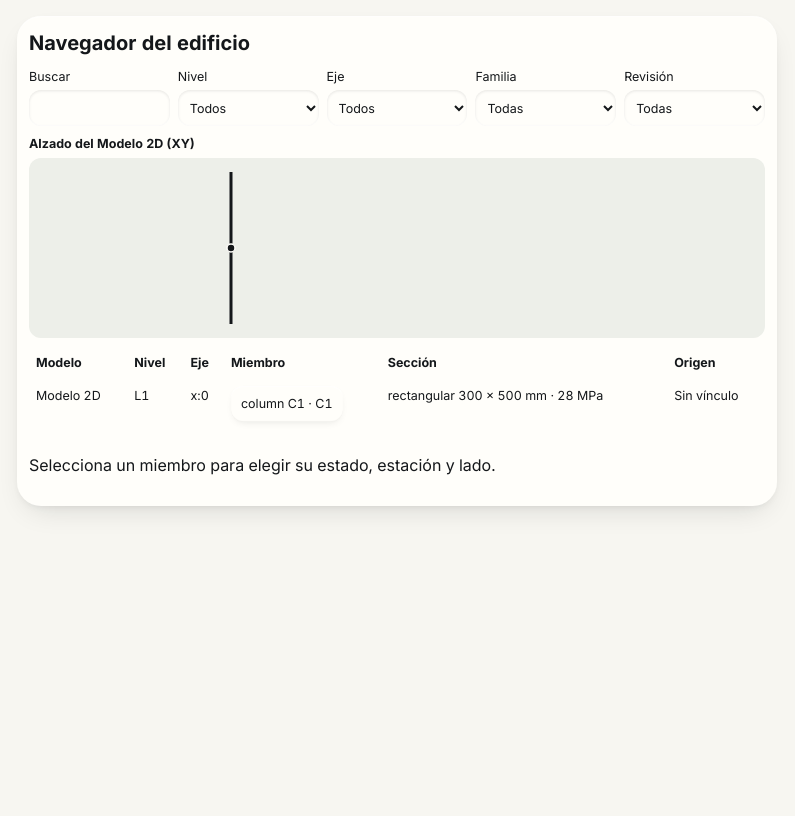
Test case: explica en el navegador cuando la memoria llena rechaza la creación sin cerrar la selección
Click the button with aria-label "Seleccionar column C1": coordinates (287, 404) [231, 386, 343, 422]
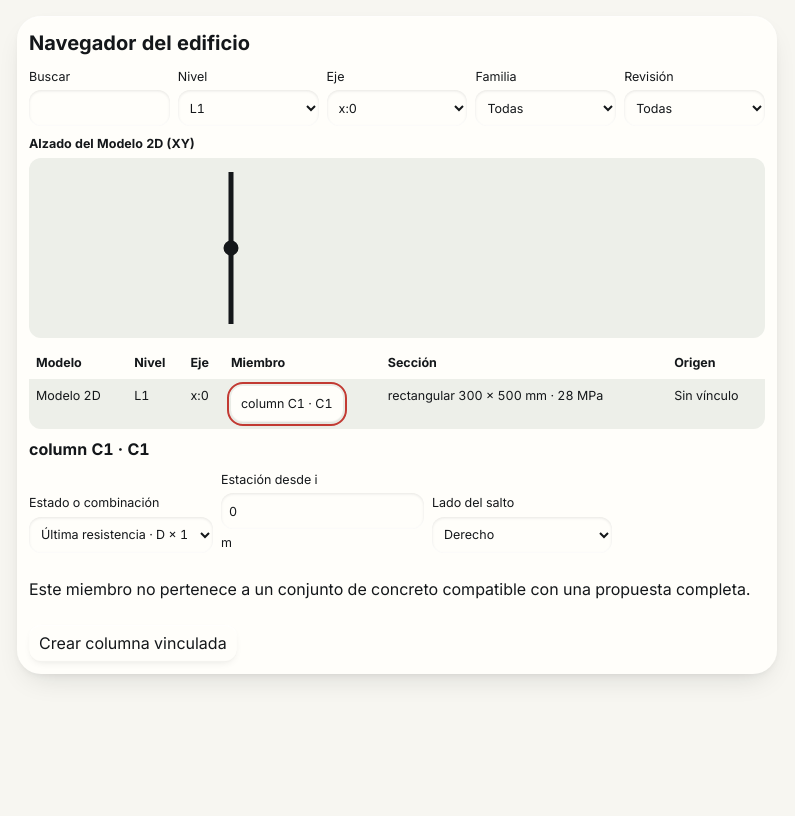
Click the button "Crear columna vinculada": coordinates (133, 644) [29, 626, 237, 662]
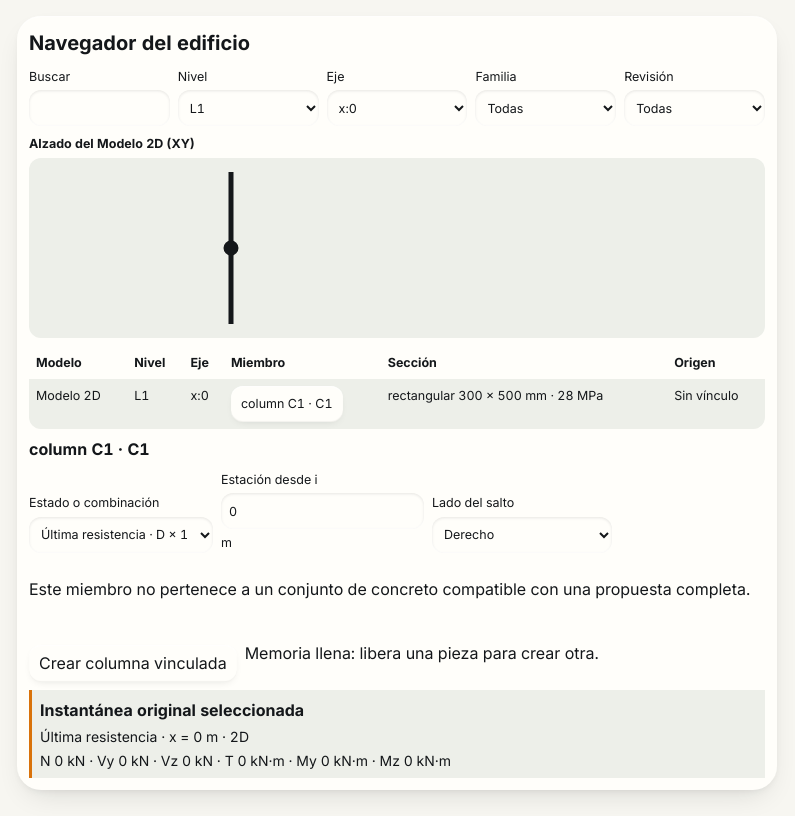
Expected: the element with test id "member-selection" shows "C1", [128, 439, 150, 459]
Expected: the message "Memoria llena: libera una pieza para crear otra." is shown, [245, 642, 599, 666]
